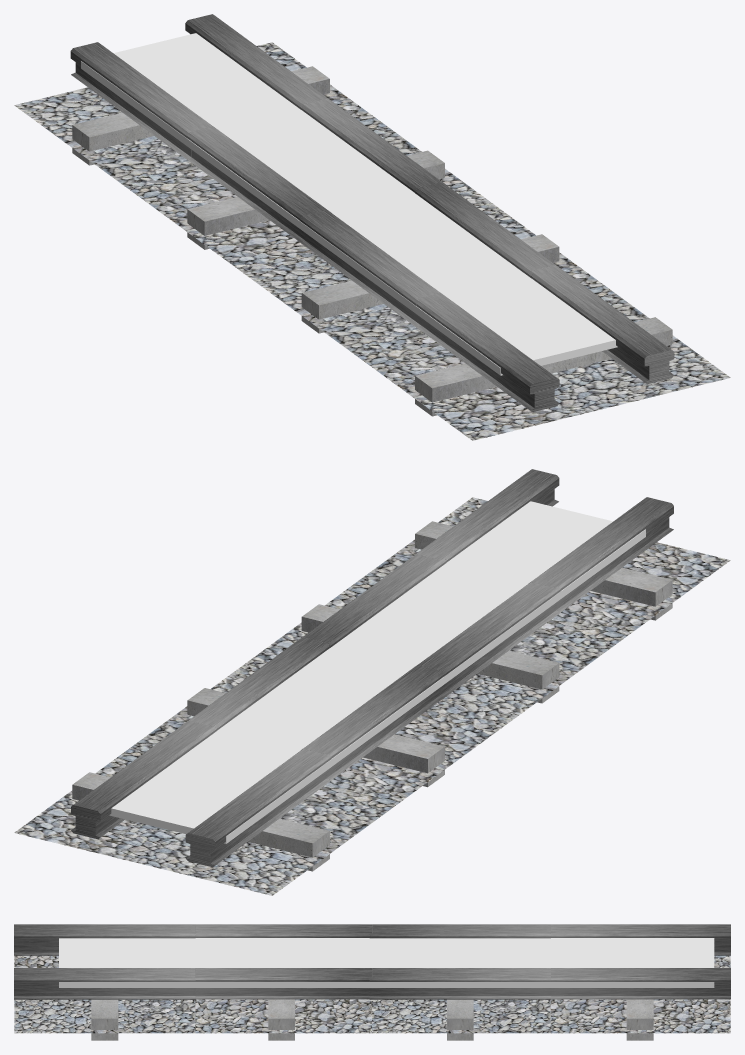
Rendered from Straight.fbx.
3 views of the same model, one above another, from view 1: azimuth 30°, elevation 25°; view 2: azimuth 150°, elevation 25°; view 3: azimuth 270°, elevation 25° (orthographic). The views are drawn at different scales.
Parts seen in each view (by area): view 1: Track, Train_Rail_1, Train_Rail_2, Train_Rail, Train_Rail_3; view 2: Track, Train_Rail_2, Train_Rail_1, Train_Rail, Train_Rail_3; view 3: Track, Train_Rail_1, Train_Rail_2, Train_Rail, Train_Rail_3.
Part boxes in pixels (x1=…): Track: x1=81, y1=33, x2=617, y2=375; Train_Rail_1: x1=357, y1=265, x2=730, y2=440; Train_Rail_2: x1=14, y1=14, x2=387, y2=189; Train_Rail: x1=129, y1=98, x2=501, y2=273; Train_Rail_3: x1=244, y1=182, x2=614, y2=355; Track: x1=109, y1=501, x2=645, y2=843; Train_Rail_2: x1=14, y1=721, x2=386, y2=895; Train_Rail_1: x1=357, y1=469, x2=730, y2=644; Train_Rail: x1=129, y1=636, x2=501, y2=811; Train_Rail_3: x1=244, y1=554, x2=614, y2=727; Track: x1=59, y1=938, x2=714, y2=987; Train_Rail_1: x1=14, y1=924, x2=195, y2=1040; Train_Rail_2: x1=550, y1=924, x2=730, y2=1040; Train_Rail: x1=369, y1=924, x2=550, y2=1040; Train_Rail_3: x1=195, y1=924, x2=372, y2=1040.
Bounding box in the file's own units: 711 × 148 × 2188.
Materials: 4 (3 with a texture image).
